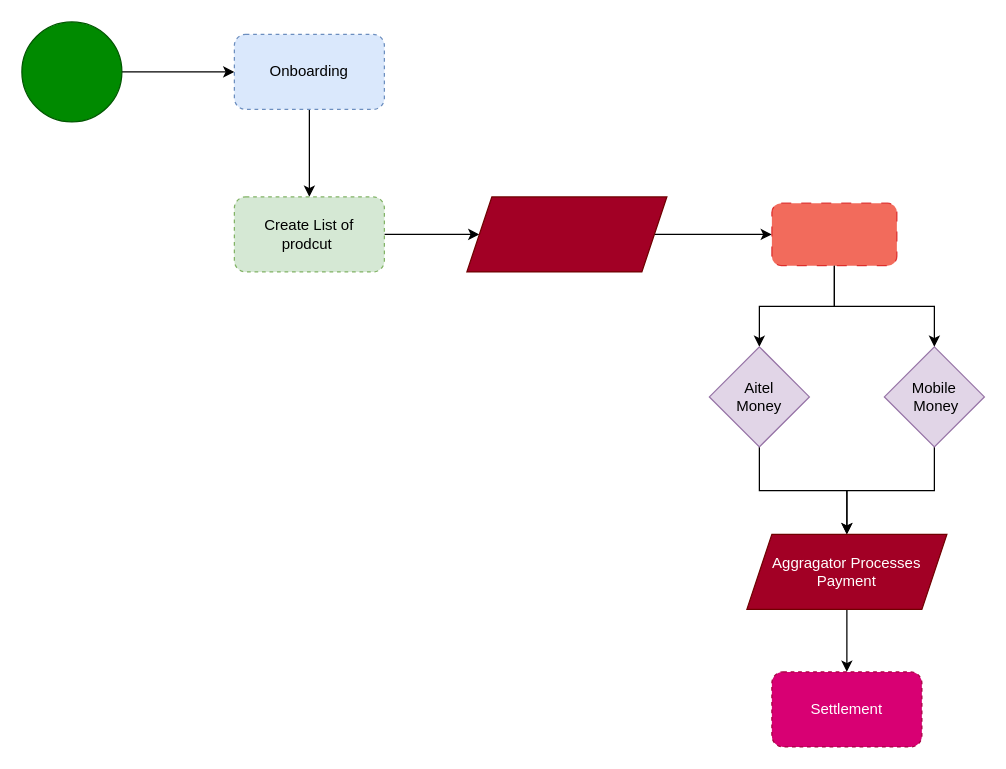
Some shapes in this 1006 by 769 pixel diagram are drawn without their labels. Each missing label, with the box of its shape:
Create Payment link: (466, 196, 667, 272)
Customer Opens payment link: (771, 202, 897, 266)
E-commerce Merchant: (21, 21, 122, 122)
